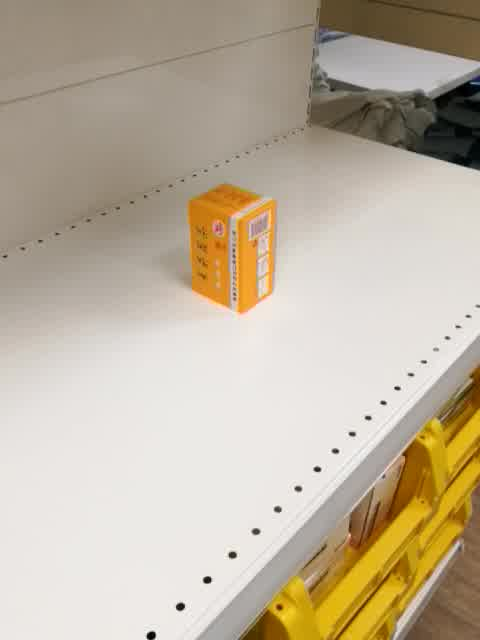jasminetea: (188, 182, 278, 316)
